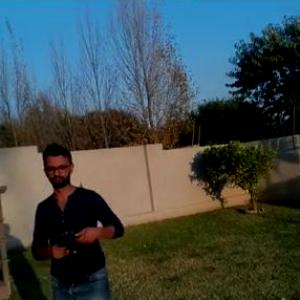follow: (25, 136, 127, 299)
